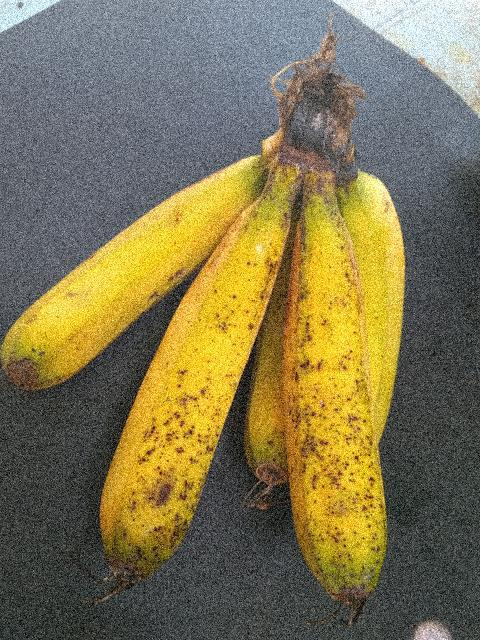ripe: (93, 193, 295, 589), (246, 197, 410, 632)
